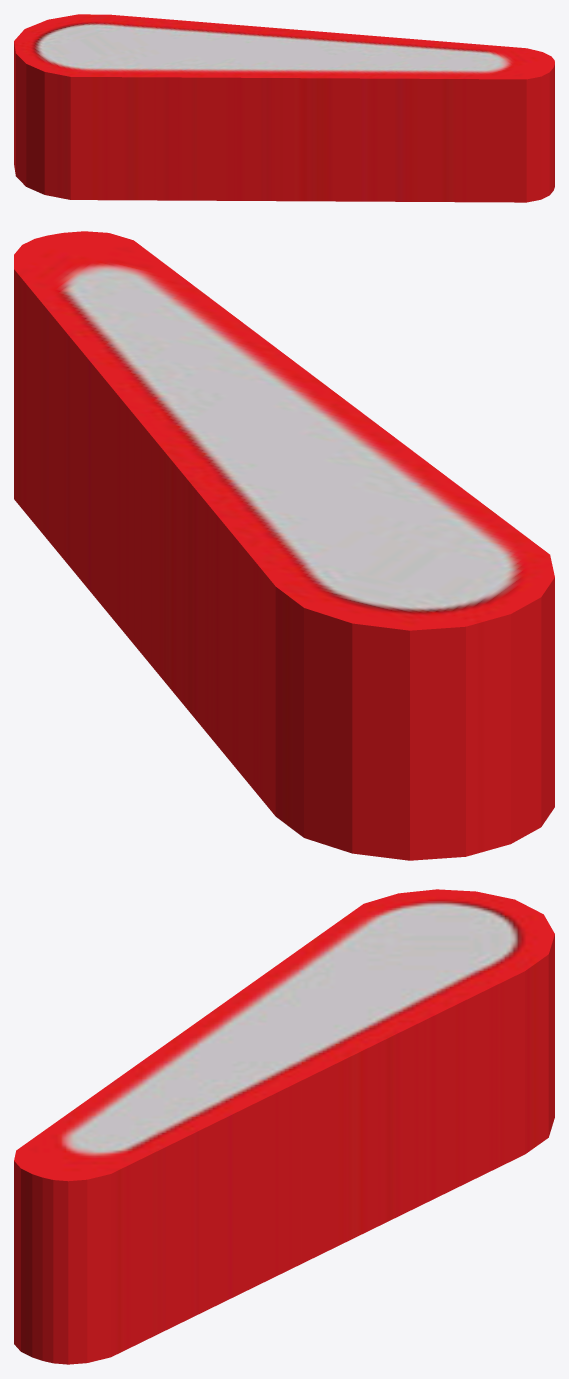
The model's file is Flipper_L.glb.
3 views of the same model, one above another, from view 1: azimuth 30°, elevation 25°; view 2: azimuth 150°, elevation 25°; view 3: azimuth 270°, elevation 25° (orthographic). The views are drawn at different scales.
Visible parts, largest first — view 1: Flipper_L; view 2: Flipper_L; view 3: Flipper_L.
Boxes of the visible parts, <box> form: Flipper_L: <box>14,14,554,202</box>; Flipper_L: <box>14,231,554,860</box>; Flipper_L: <box>14,889,554,1364</box>.
Bounding box in the file's own units: 2.64 × 0.7748 × 2.07.
1 material, 1 textured.
